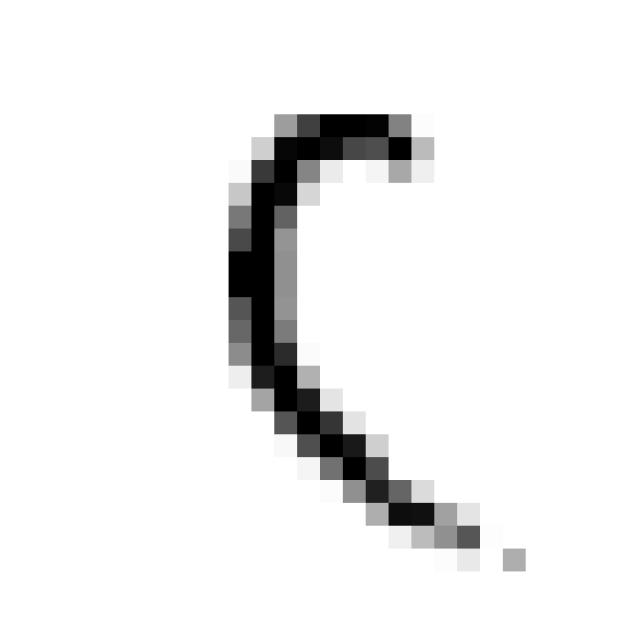2 -two-: (203, 91, 550, 592)
